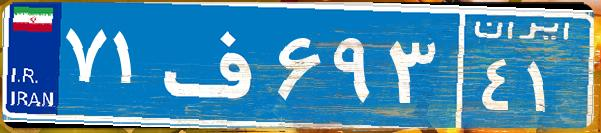1: (110, 28, 158, 105), (525, 38, 570, 115)
3: (385, 28, 445, 110)
4: (475, 38, 525, 113)
6: (273, 28, 330, 110)
7: (57, 26, 110, 107)
9: (330, 28, 385, 110)
ف: (158, 15, 273, 115)
